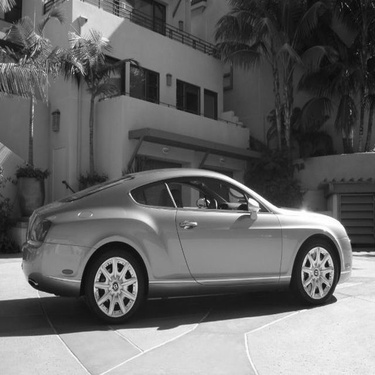car: (18, 161, 358, 329)
